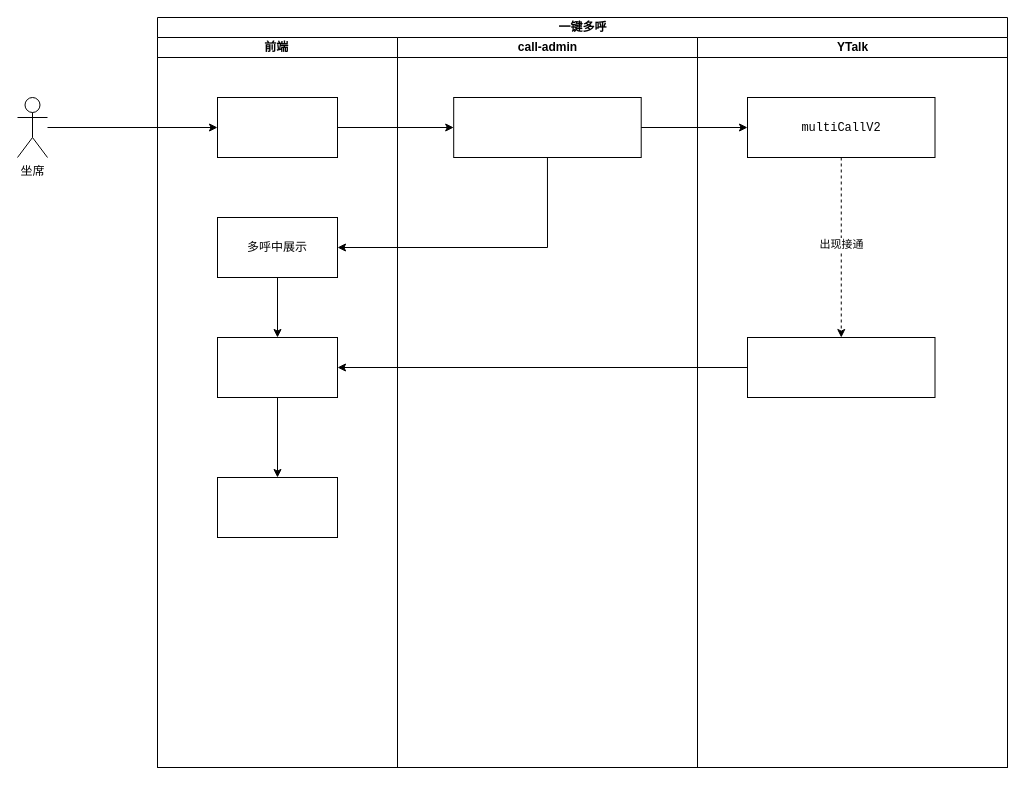
The diagram is 1025 pixels wide and 785 high, and some of its shapes have lost their labels. The centre of each missing label's shape, as x and y in pixels:
"socket 唤起多呼" goes at (x=840, y=367).
"triggerMultipleCalling" goes at (x=547, y=127).
"发起多呼" goes at (x=277, y=127).
"接通电话展示" goes at (x=277, y=367).
